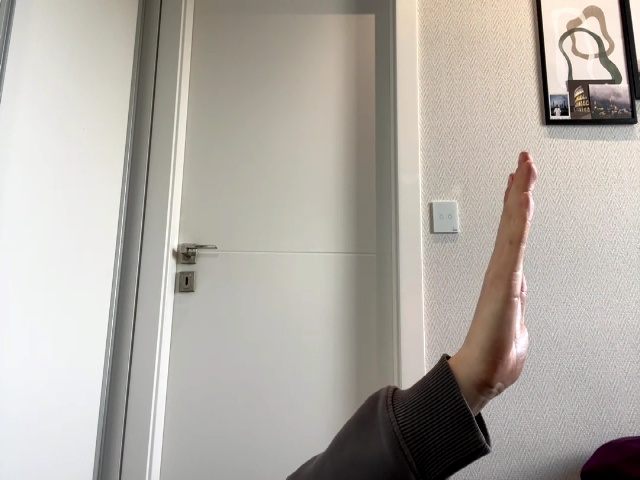SZ: (474, 152, 539, 397)
